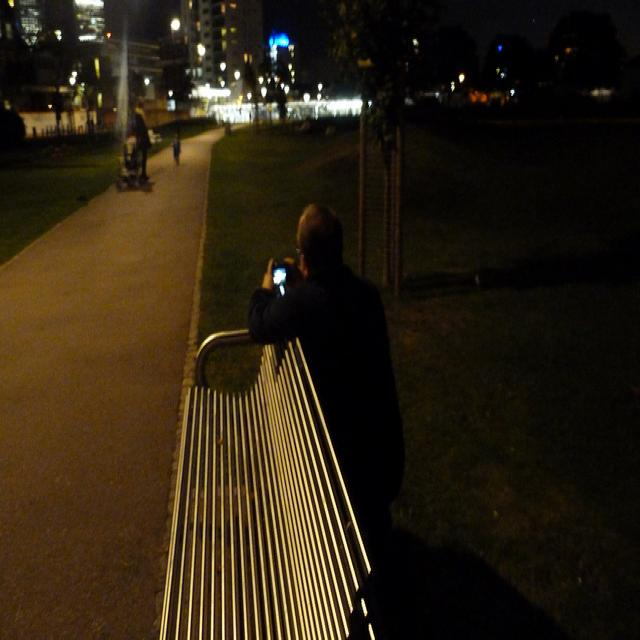People: (267, 201, 402, 533), (115, 79, 158, 218), (165, 123, 189, 192)
car: (162, 279, 413, 640)
